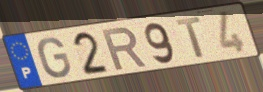2: (72, 29, 112, 78)
4: (218, 8, 248, 56)
9: (144, 21, 176, 65)
G: (36, 36, 74, 80)
R: (100, 26, 149, 73)
T: (175, 15, 207, 60)
